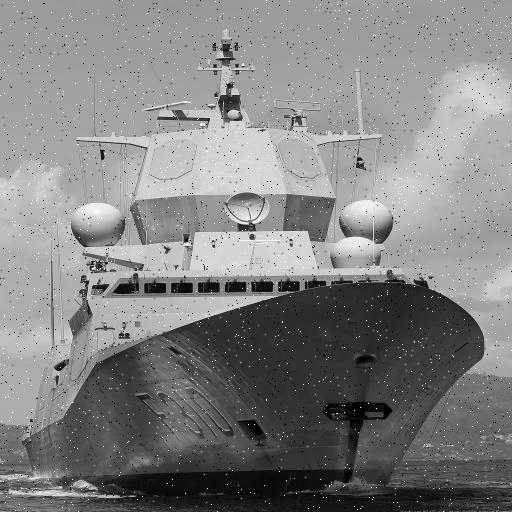Fragata: (1, 8, 336, 497)
